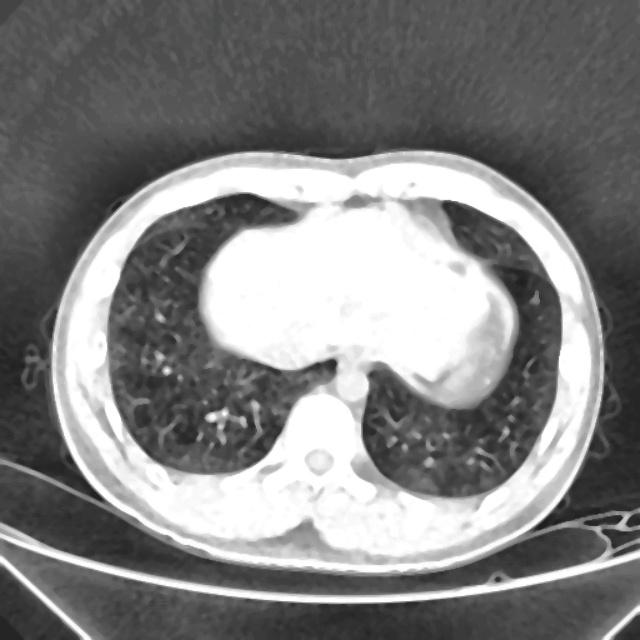covid: (49, 147, 606, 573)
